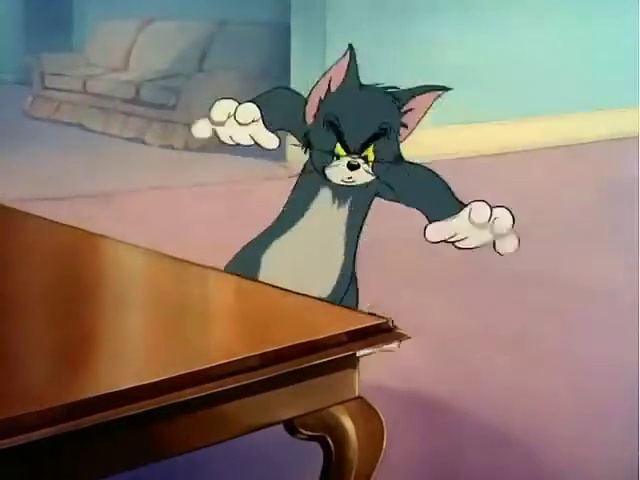tom: (171, 36, 541, 343)
